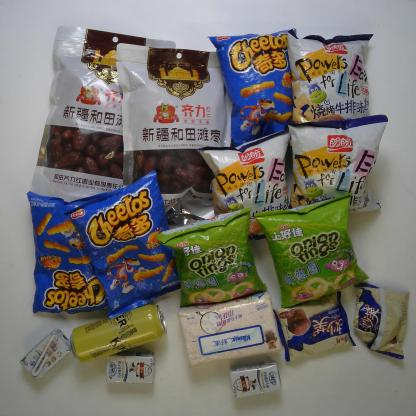Alcohol: (67, 305, 168, 363)
Dessert: (272, 290, 356, 364), (351, 279, 410, 362)
Dried Food: (28, 24, 177, 202), (116, 42, 238, 240)
Milk: (18, 328, 75, 383), (229, 360, 282, 401), (104, 349, 156, 386)
Puffed Food: (61, 168, 190, 321), (254, 195, 370, 311), (26, 190, 126, 314), (208, 28, 304, 151), (156, 207, 267, 308), (194, 129, 293, 241), (284, 114, 388, 215), (284, 31, 374, 134)
Tissue: (178, 290, 285, 368)
